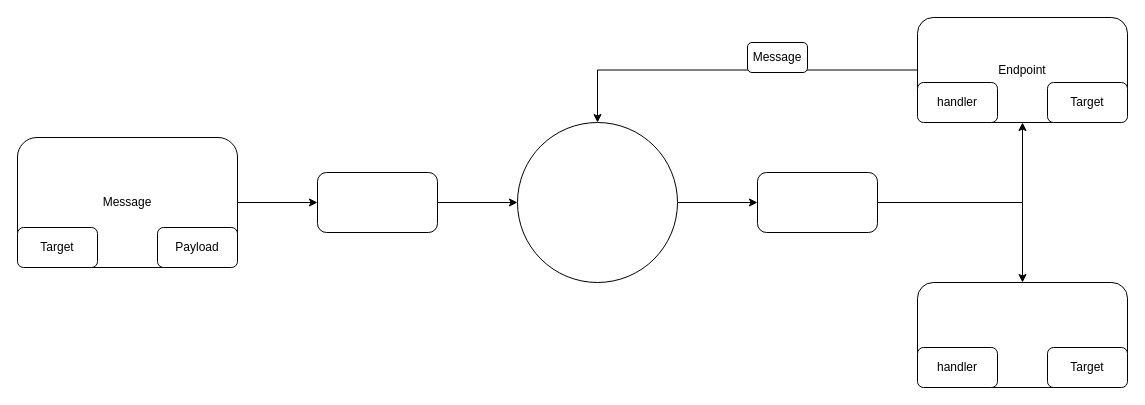
This 1145x405 diagram has some shape labels left out. The shapes that lost their labels are listed below. From the top down, each one's box as (x1, y1, x2, y2) in pixels, then its label:
(316, 172, 438, 232): Client
(516, 122, 678, 282): Transport Layer
(756, 172, 878, 232): Runtime
(916, 282, 1128, 388): Subscriber
